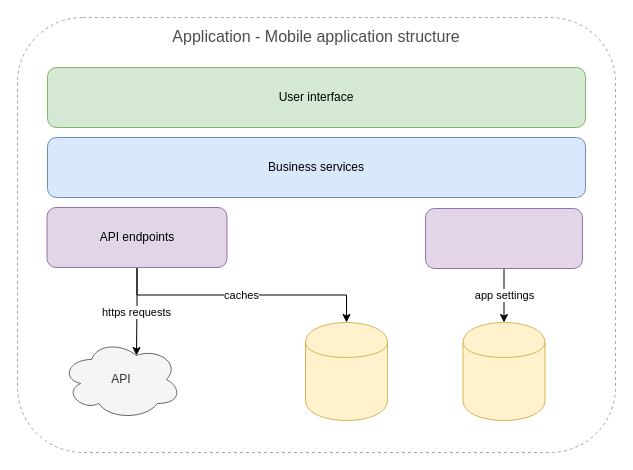
The diagram is 633 pixels wide and 470 high, and some of its shapes have lost their labels. Each missing label, with the centre of its shape:
"Application settings" belongs at point (503, 238).
"Internal storage" belongs at point (346, 371).
"Secure storage" belongs at point (503, 371).
